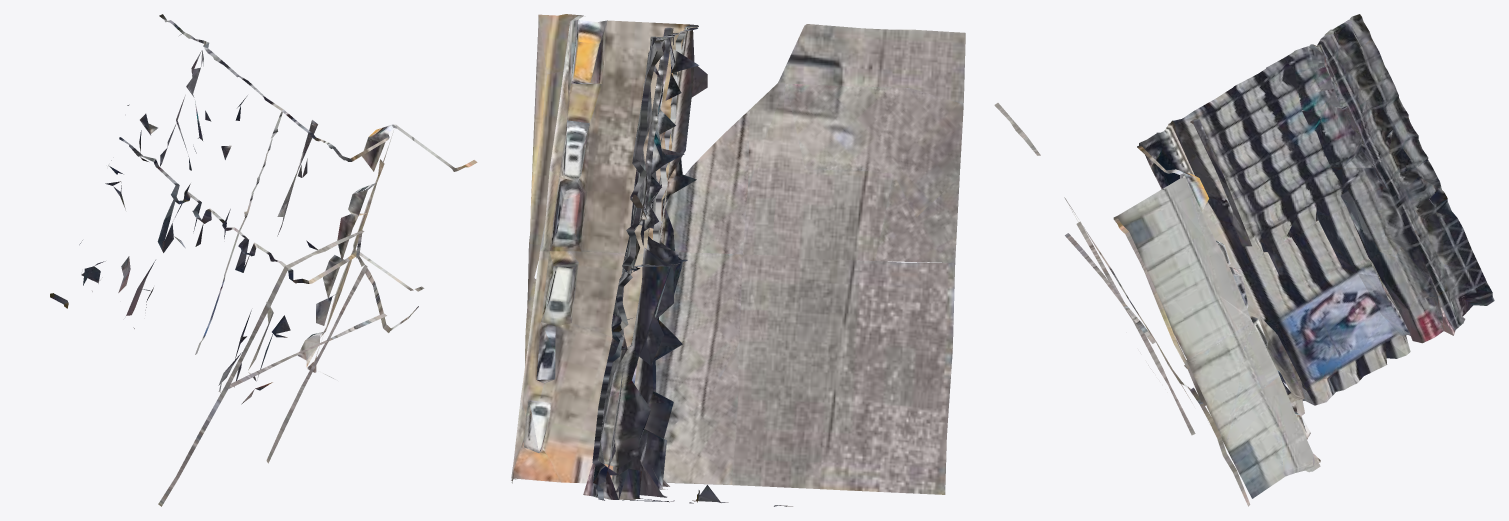
The model's file is AJVsH2xR6sqIvEbykqU7VqNuSzsRU-tvMKfXPqvfNsxaEz9_dyHejea_YAP55ZR2Cd1Q_crzybu6MyjwYEtPmg2z-H6hDX6usWInc2naoPUmupBUMkXzjeHyeLskC4cP5k7UnFsb0sIR4UL04bPFL4intvCU.glb.
3 views of the same model, side by side, from view 1: azimuth 30°, elevation 25°; view 2: azimuth 150°, elevation 25°; view 3: azimuth 270°, elevation 25° (orthographic). The views are drawn at different scales.
Size of the model in its own units: 41.71 by 49.09 by 53.93.
Materials: 1 (1 with a texture image).
